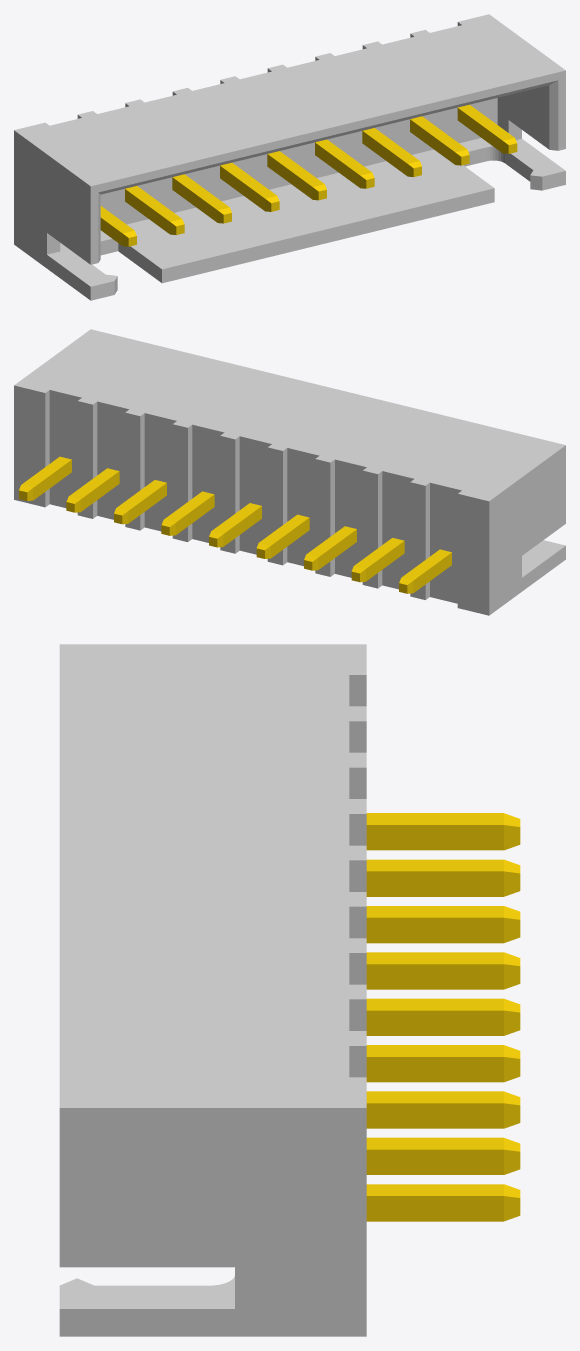
File: DS1069-9 CWF-9.obj
3 renders of one model, top to bottom at view 1: azimuth 30°, elevation 25°; view 2: azimuth 150°, elevation 25°; view 3: azimuth 270°, elevation 25°, orthographic. The views are drawn at different scales.
Visible parts, largest first — view 1: DS1069-9_CWF-9; view 2: DS1069-9_CWF-9; view 3: DS1069-9_CWF-9.
Part boxes in pixels (x1,y1,x2,y2): DS1069-9_CWF-9: (14,14,565,300); DS1069-9_CWF-9: (14,329,565,615); DS1069-9_CWF-9: (59,644,520,1336).
Size of the model in its own units: 0.0216 by 0.00496 by 0.00906.
